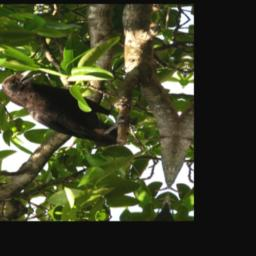Crow: (0, 66, 138, 149)
